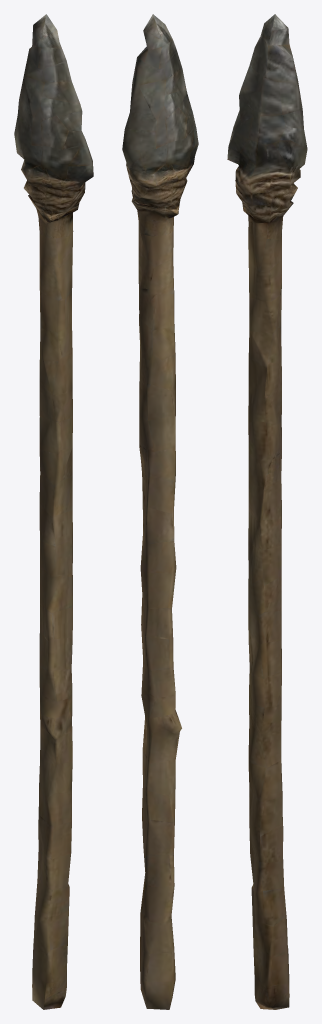
File: speer.glb
3 views of the same model, side by side, from view 1: azimuth 90°, elevation 25°; view 2: azimuth 150°, elevation 25°; view 3: azimuth 270°, elevation 25° (orthographic).
Bounding box in the file's own units: 0.1271 × 2.44 × 0.1776.
1 material, 1 textured.
